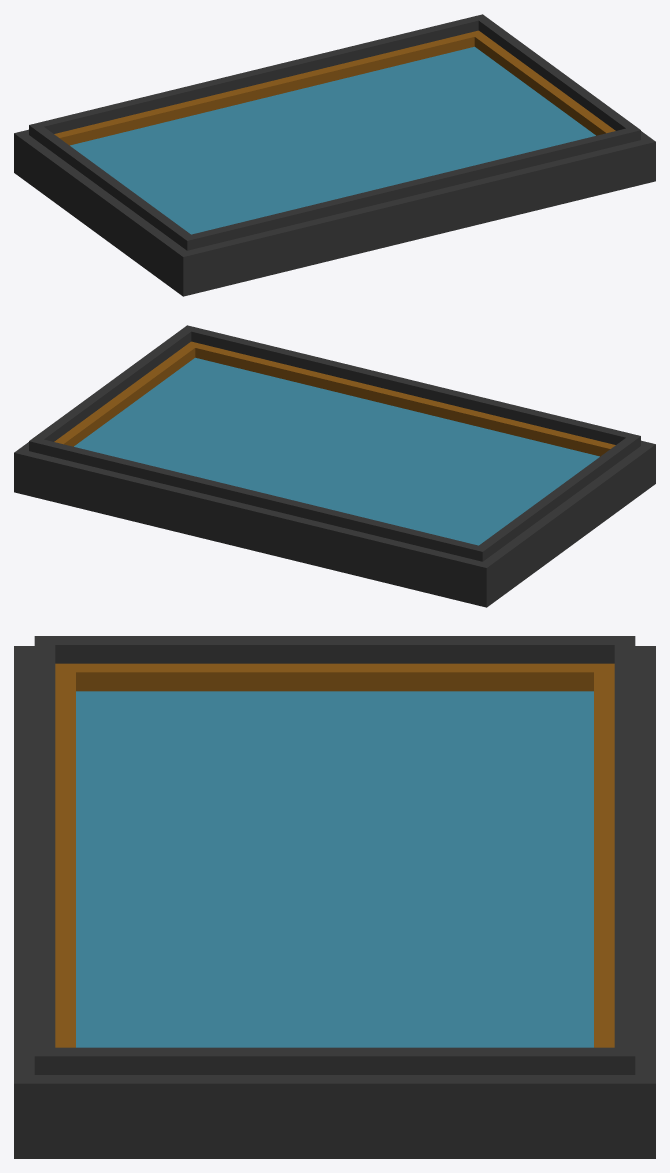
The model's file is Picture.gltf.
3 views of the same model, one above another, from view 1: azimuth 30°, elevation 25°; view 2: azimuth 150°, elevation 25°; view 3: azimuth 270°, elevation 25° (orthographic). The views are drawn at different scales.
Parts seen in each view (by area): view 1: Layer.1; view 2: Layer.1; view 3: Layer.1.
Boxes of the visible parts, x1,y1,x2,y2 form: Layer.1: (14, 14, 655, 296); Layer.1: (14, 325, 655, 607); Layer.1: (14, 636, 655, 1158).
Bounding box in the file's own units: 50 × 5 × 31.
